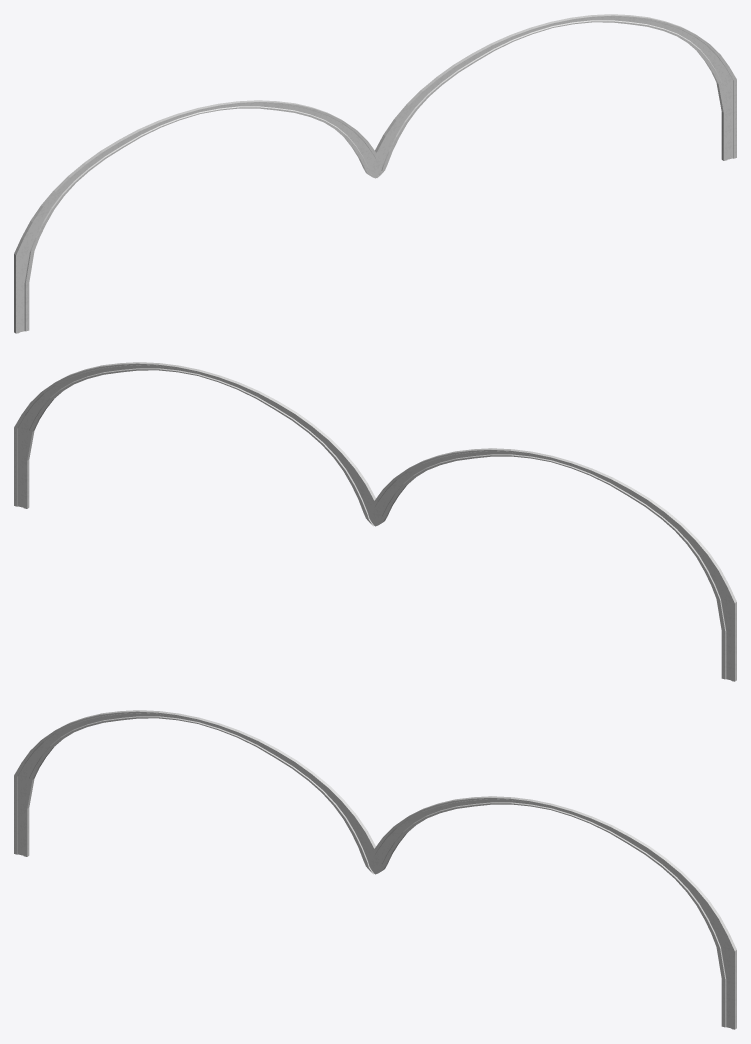
Rendered from ceilingframe_A_001.fbx.
The picture shows the model from 3 angles, top to bottom: view 1: azimuth 30°, elevation 25°; view 2: azimuth 150°, elevation 25°; view 3: azimuth 330°, elevation 25°; orthographic projection.
Parts seen in each view (by area): view 1: ceilingframe_A_001; view 2: ceilingframe_A_001; view 3: ceilingframe_A_001.
Part boxes in pixels (x1=…): ceilingframe_A_001: x1=14, y1=14, x2=736, y2=333; ceilingframe_A_001: x1=14, y1=362, x2=736, y2=681; ceilingframe_A_001: x1=14, y1=710, x2=736, y2=1029.
Bounding box in the file's own units: 4508 × 1073 × 23.07.
1 material, 1 textured.
